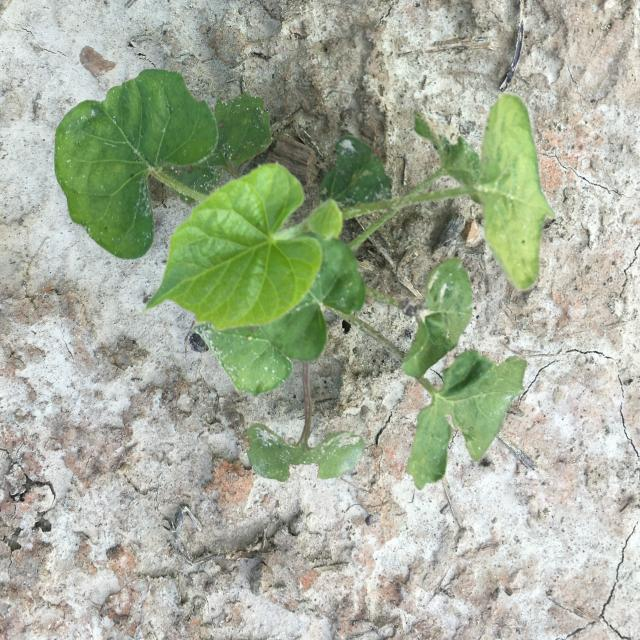MorningGlory: (54, 67, 556, 493)
